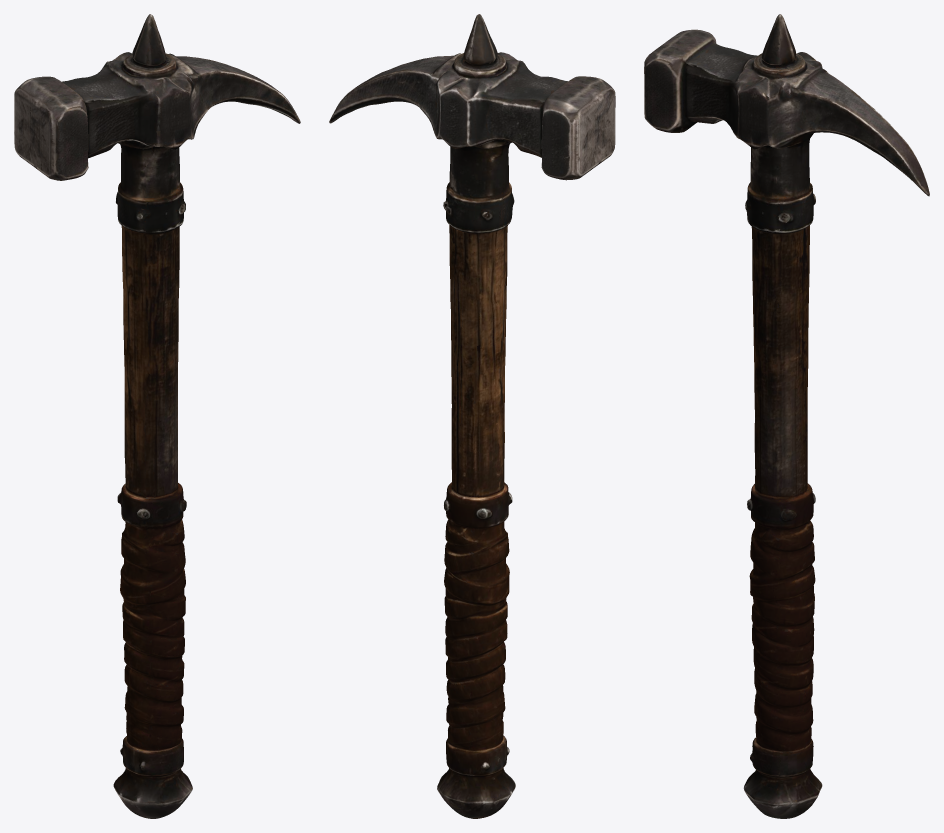
File: warhammer.glb
3 renders of one model, left to right at view 1: azimuth 30°, elevation 25°; view 2: azimuth 150°, elevation 25°; view 3: azimuth 330°, elevation 25°, orthographic.
Visible parts, largest first — view 1: world; view 2: world; view 3: world.
Part boxes in pixels (x1,y1,x2,y2): world: [14, 14, 300, 818]; world: [329, 14, 615, 818]; world: [644, 14, 929, 818].
Size of the model in its own units: 0.6955 by 1.99 by 0.2367.
1 material, 1 textured.
